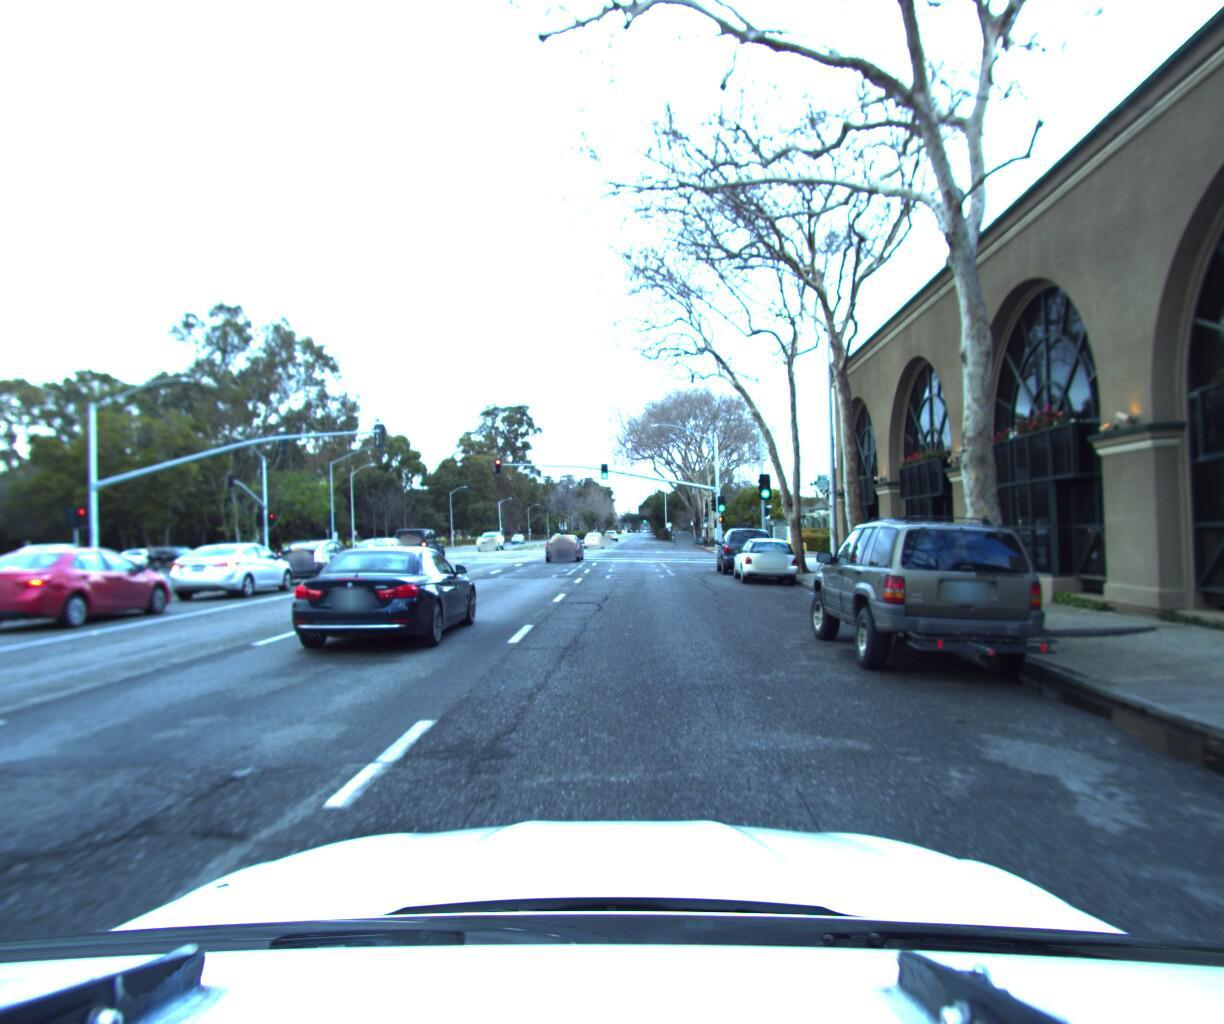car: (806, 505, 1089, 695), (282, 539, 485, 660), (164, 540, 304, 602), (270, 536, 368, 587), (724, 529, 799, 580), (714, 521, 773, 573), (346, 535, 423, 573), (20, 541, 106, 573), (390, 525, 449, 564), (138, 542, 208, 571), (116, 545, 187, 570), (540, 528, 580, 558), (477, 527, 507, 548), (582, 530, 605, 547)
